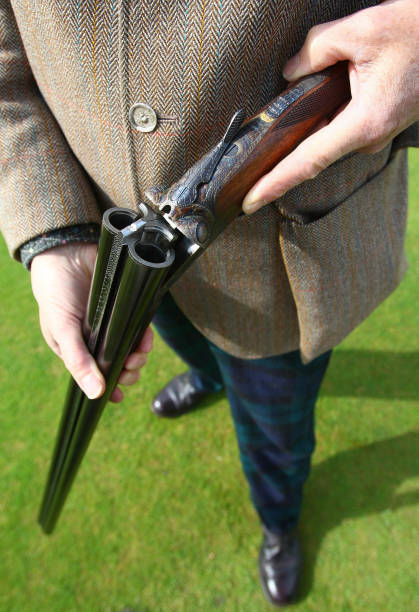shotgun: (46, 72, 250, 538)
